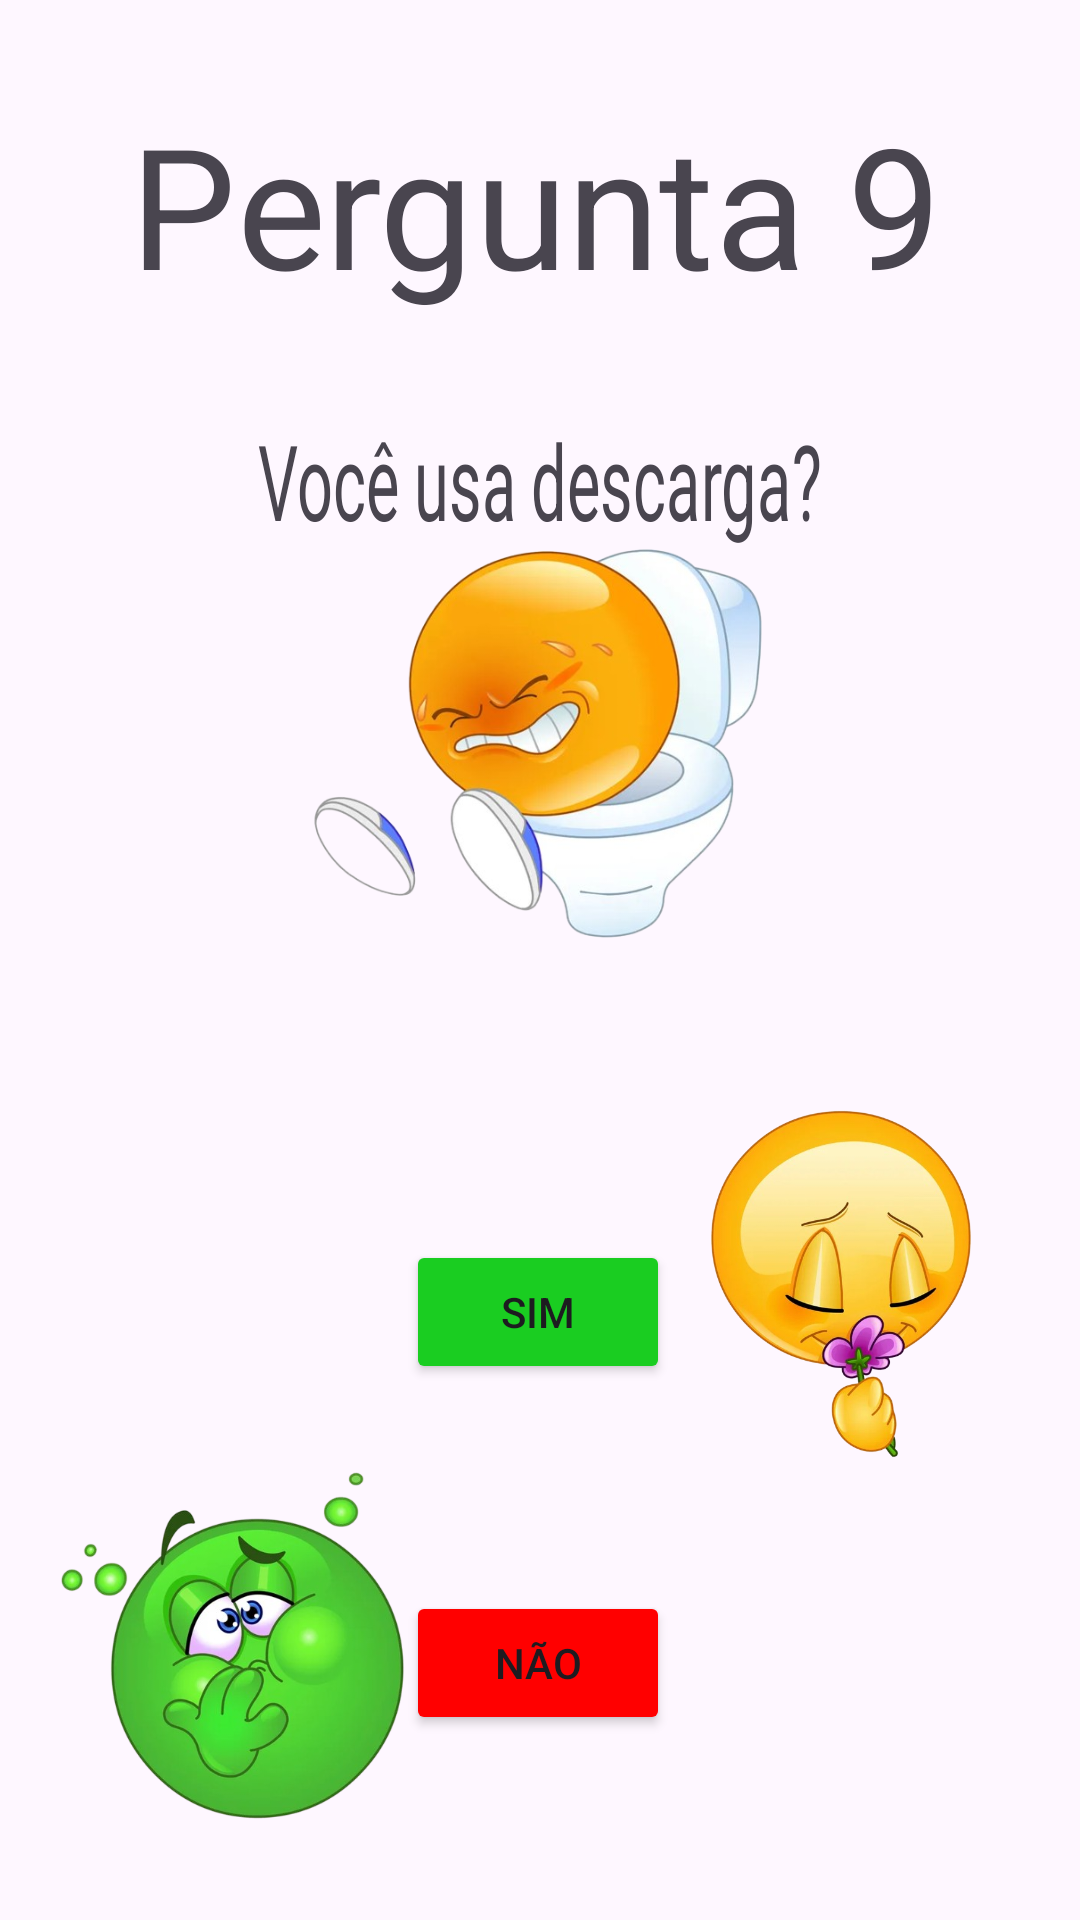

Where icons sit on this 1080px×1920px app screen, as (x1, y1, x2, y2):
enjoo: (61, 1472, 404, 1818)
flor: (711, 1111, 971, 1457)
